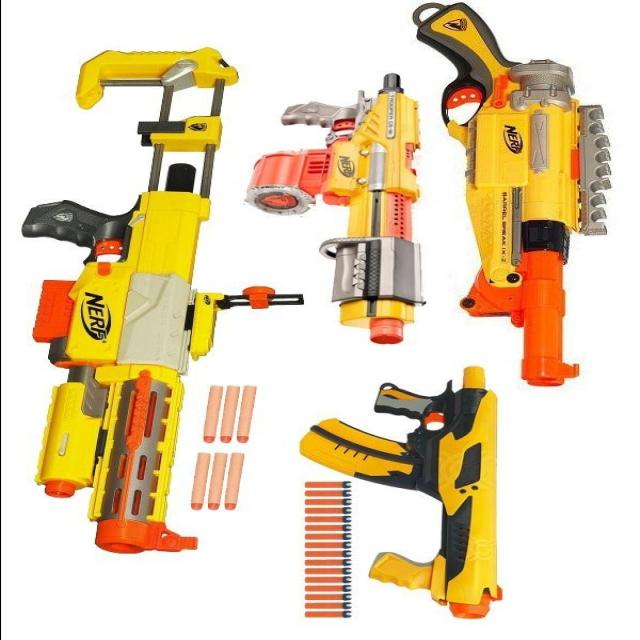Nerf gun: (18, 46, 251, 560), (405, 3, 625, 394), (293, 358, 505, 624), (243, 65, 427, 352)
